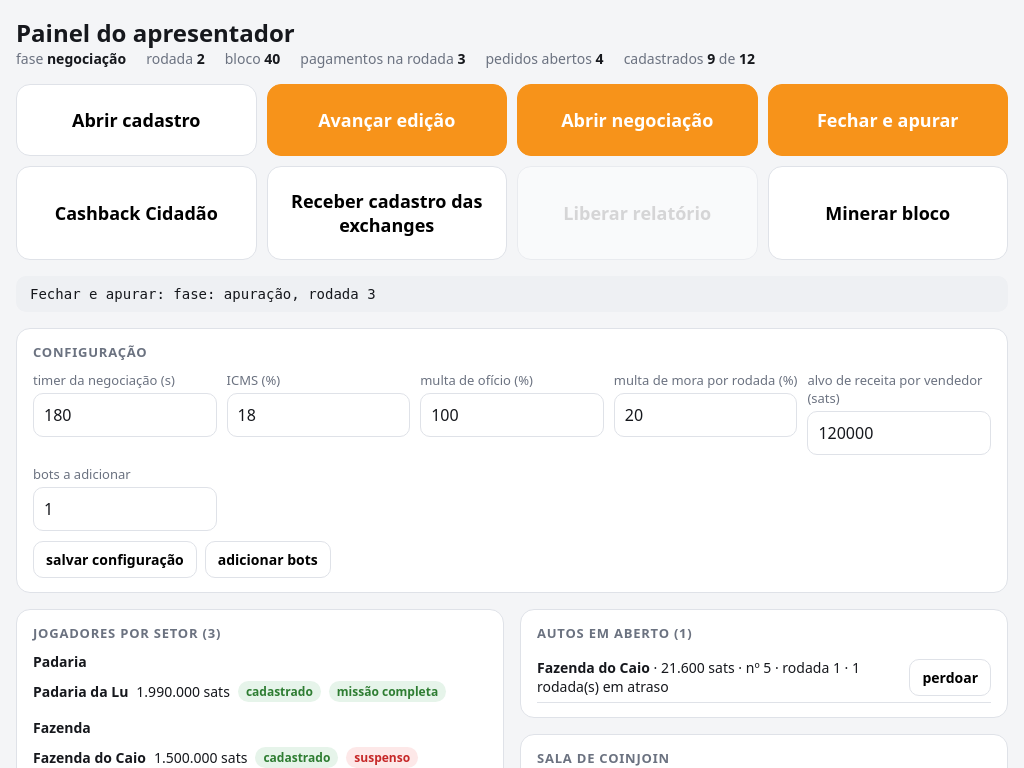
Test: buttons call the admin endpoints and report the result
Earlier steps of the test are not shown.
Check: the text "Fechar e apurar: fase: apuração, rodada 3" is shown, box [16, 276, 1008, 312]
Click the button "Cashback Cidadão" at {"x": 136, "y": 213}, box [16, 166, 256, 260]
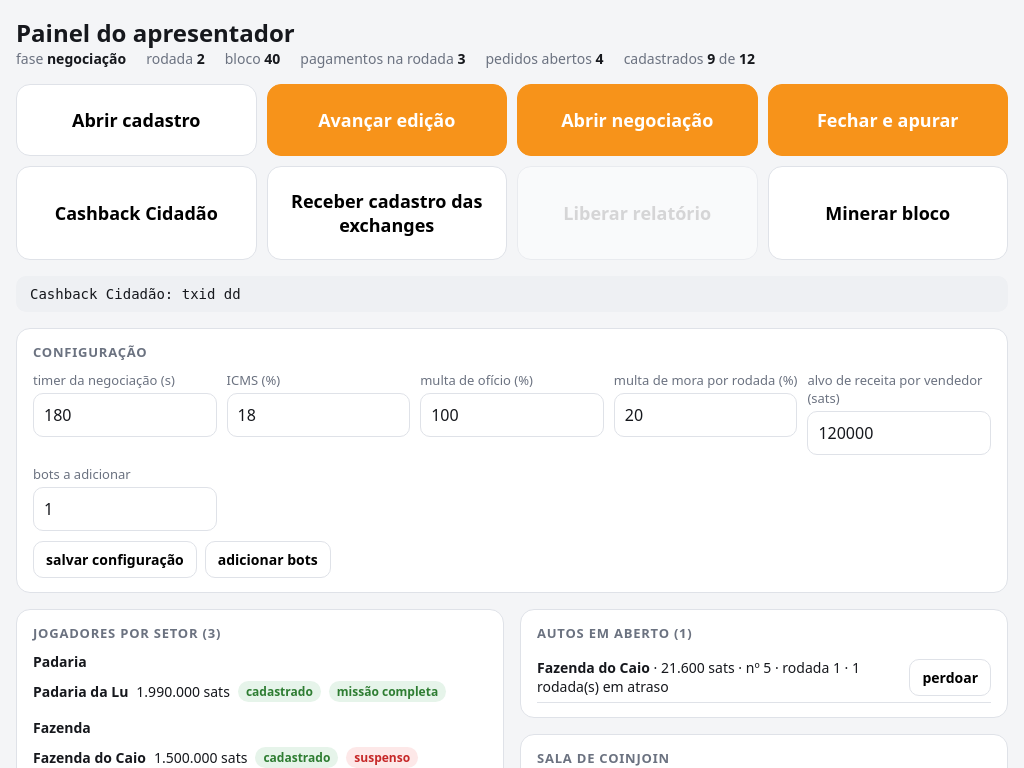
Check: the text "Cashback Cidadão: txid dd" is shown, box [16, 276, 1008, 312]
Click the button "Receber cadastro das exchanges" at {"x": 387, "y": 213}, box [266, 166, 507, 260]
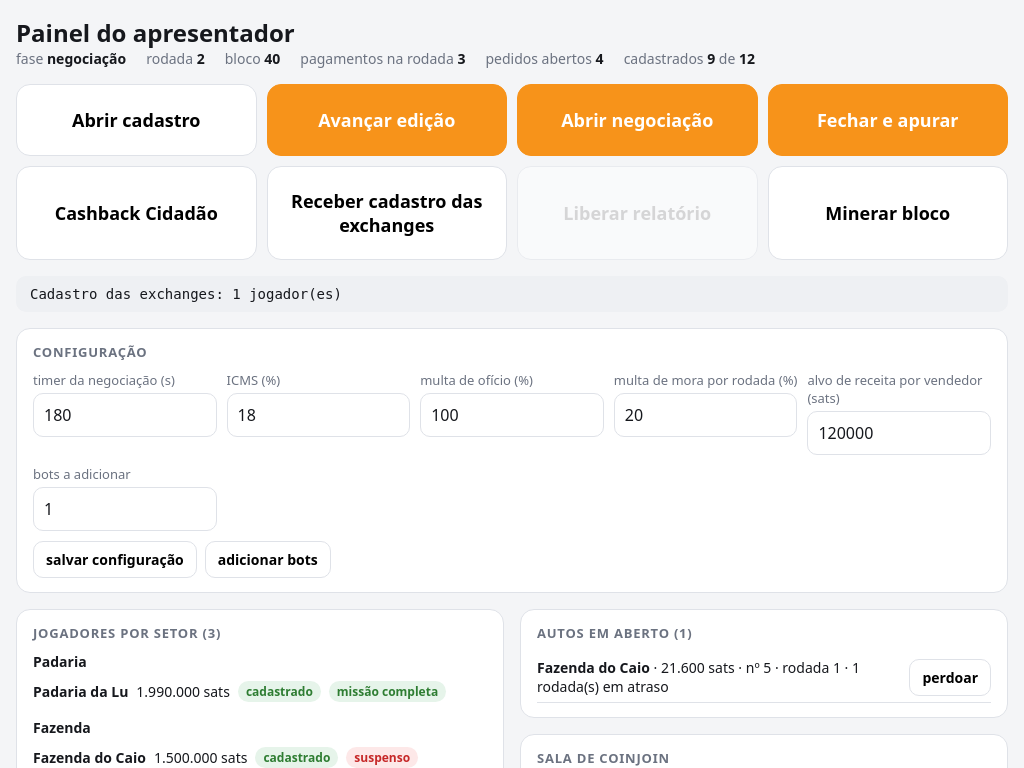
Check: the text "Cadastro das exchanges: 1 jogador(es)" is shown, box [16, 276, 1008, 312]
Click the button "Minerar bloco" at {"x": 888, "y": 213}, box [768, 166, 1008, 260]
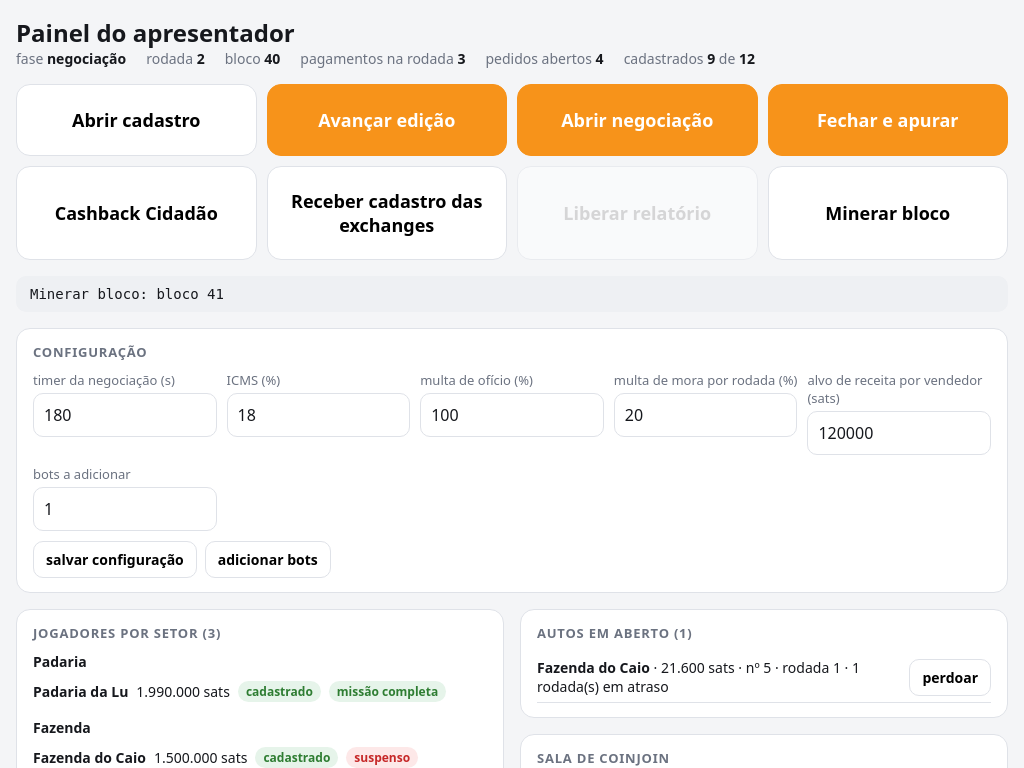
Check: the text "Minerar bloco: bloco 41" is shown, box [16, 276, 1008, 312]
Click the button "perdoar" at {"x": 950, "y": 677}, box [909, 658, 991, 696]
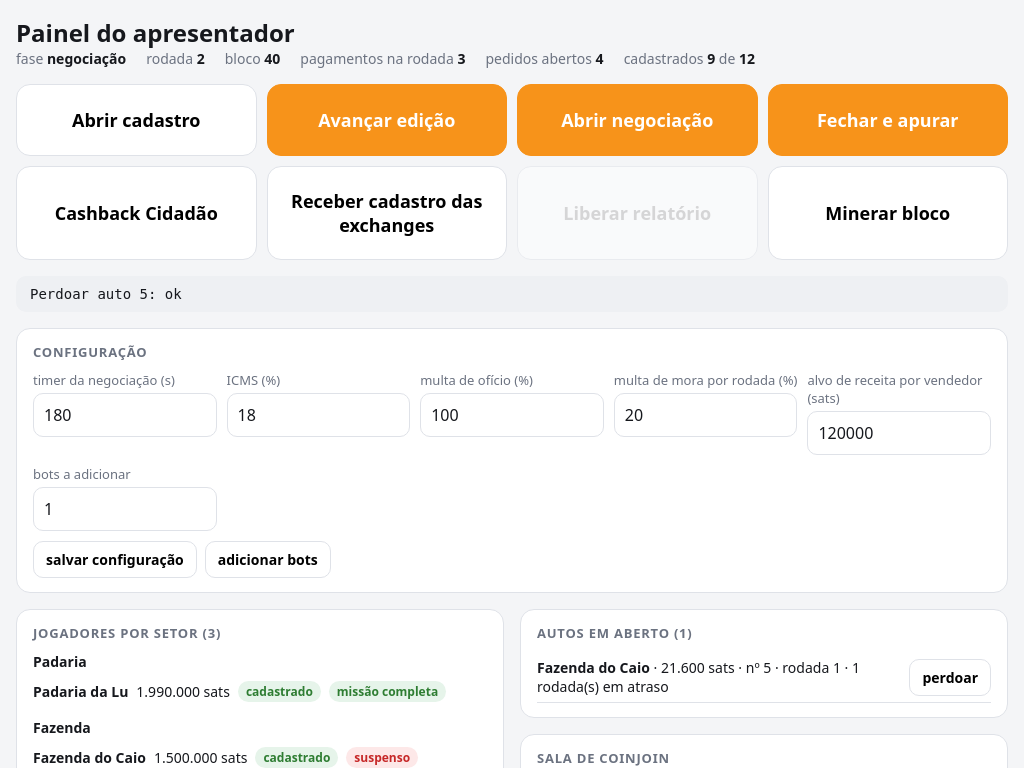
Check: the text "Perdoar auto 5: ok" is shown, box [16, 276, 1008, 312]
Click the button "Abrir cadastro" at {"x": 136, "y": 120}, box [16, 84, 256, 156]
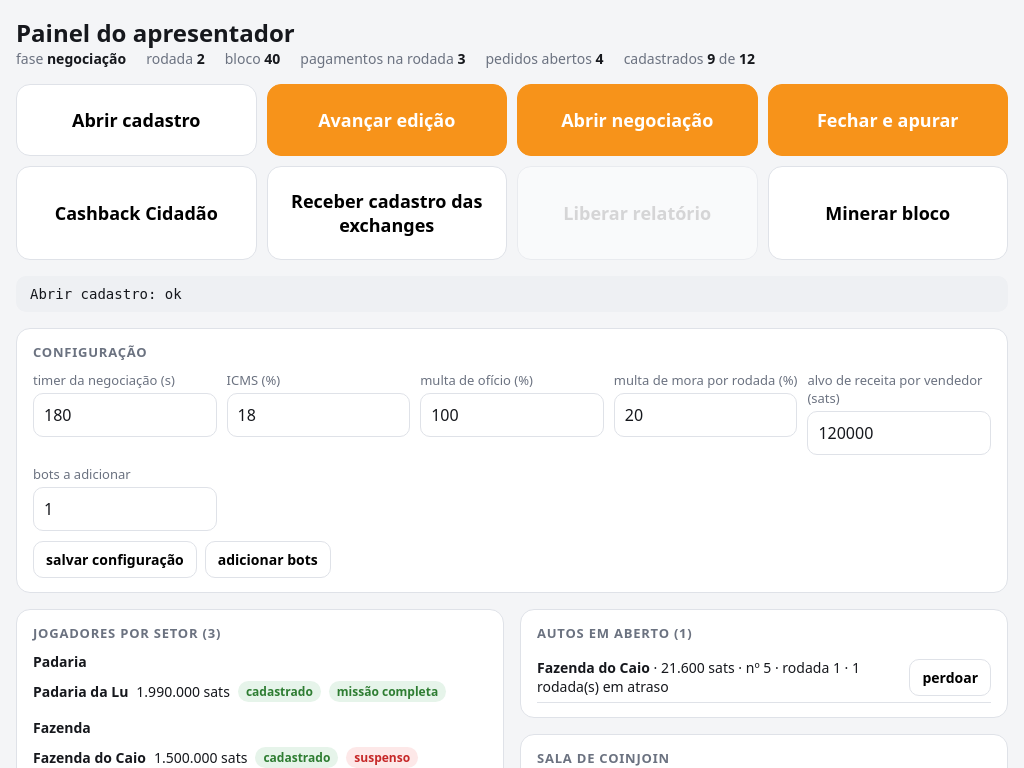
Check: the text "Abrir cadastro: ok" is shown, box [16, 276, 1008, 312]
Replace the text in the number field labelled "bots a adicionar" with "2" at {"x": 125, "y": 509}, box [33, 487, 217, 531]
Click the button "adicionar bots" at {"x": 268, "y": 560}, box [205, 541, 331, 578]
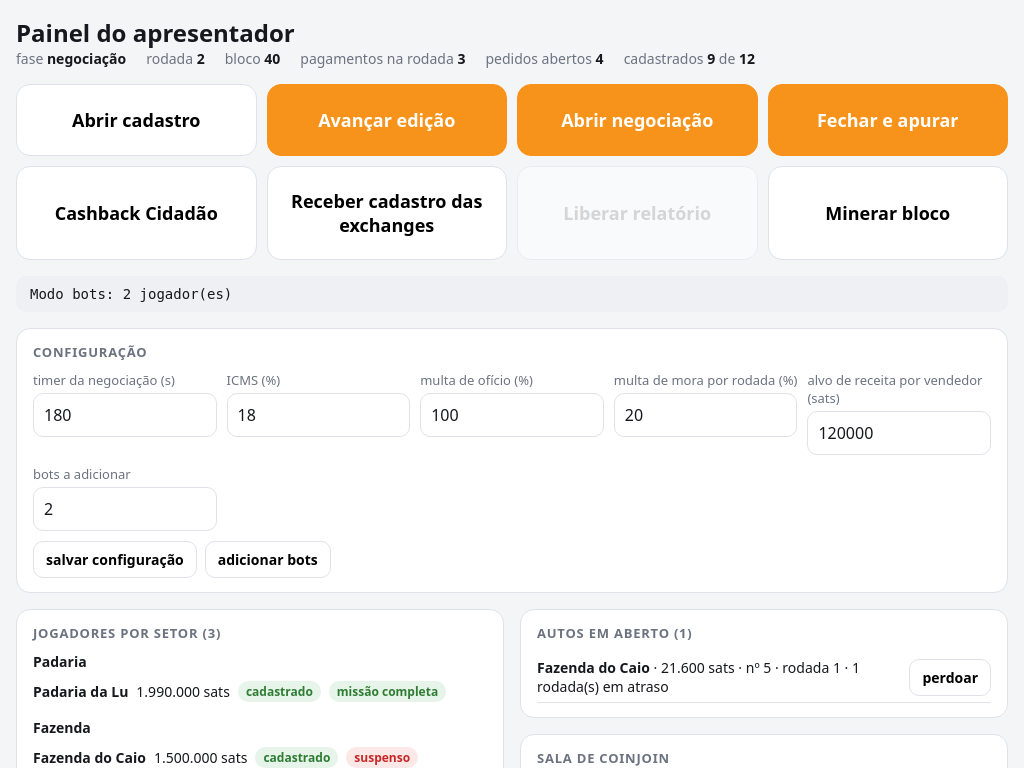
Check: the text "Modo bots: 2 jogador(es)" is shown, box [16, 276, 1008, 312]
